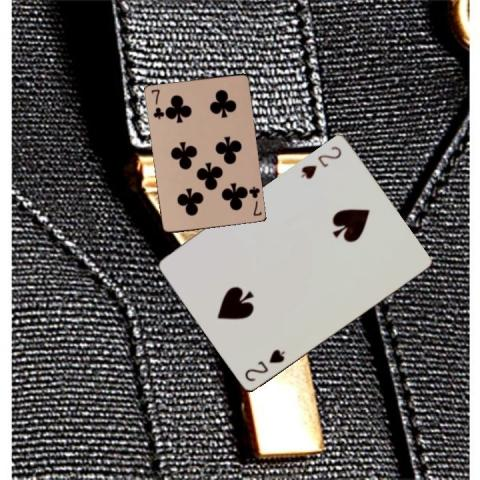2s: (241, 347, 288, 384), (298, 144, 343, 182)
7c: (245, 184, 263, 218), (148, 86, 163, 120)
